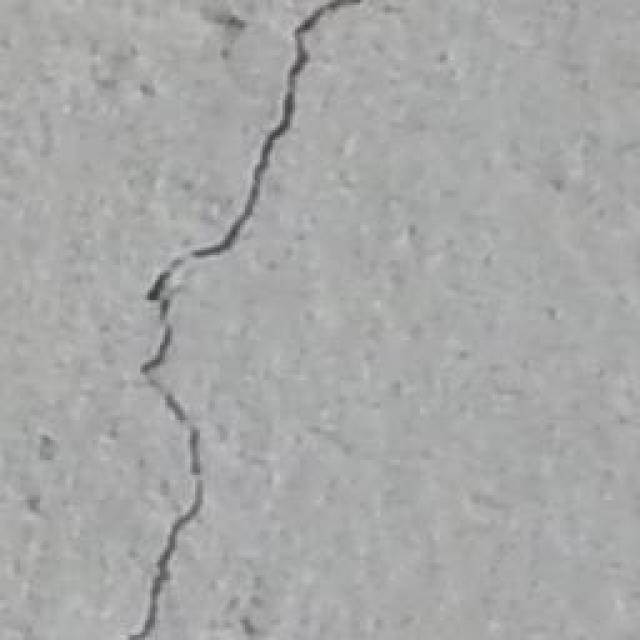concrete-crack: (124, 0, 362, 640)
